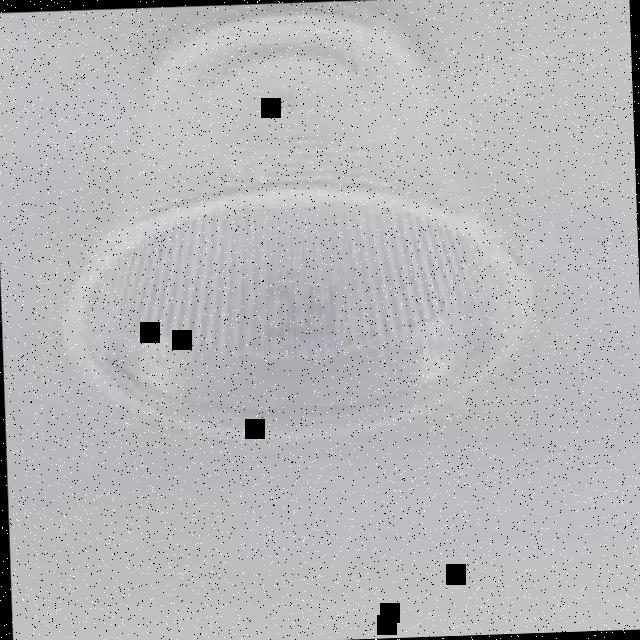plastic_box: (42, 0, 538, 454)
